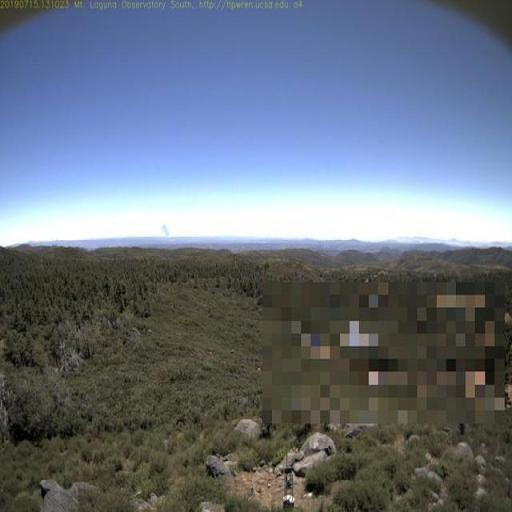smoke: (158, 218, 174, 240)
